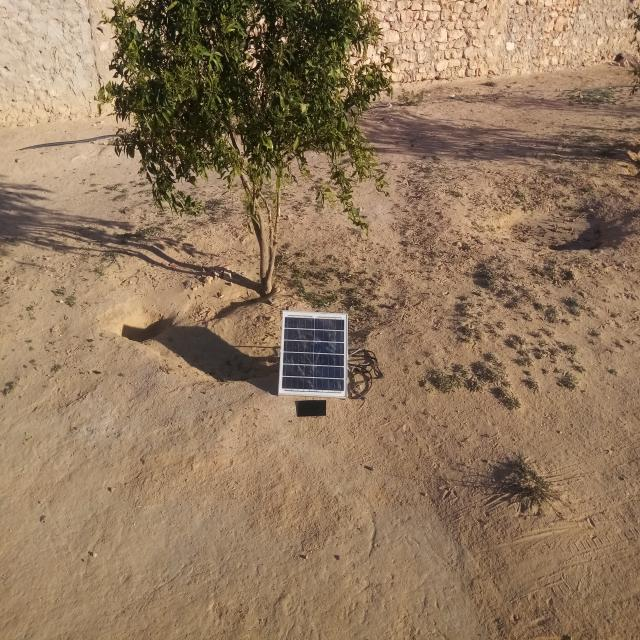faulty: (280, 311, 348, 398)
